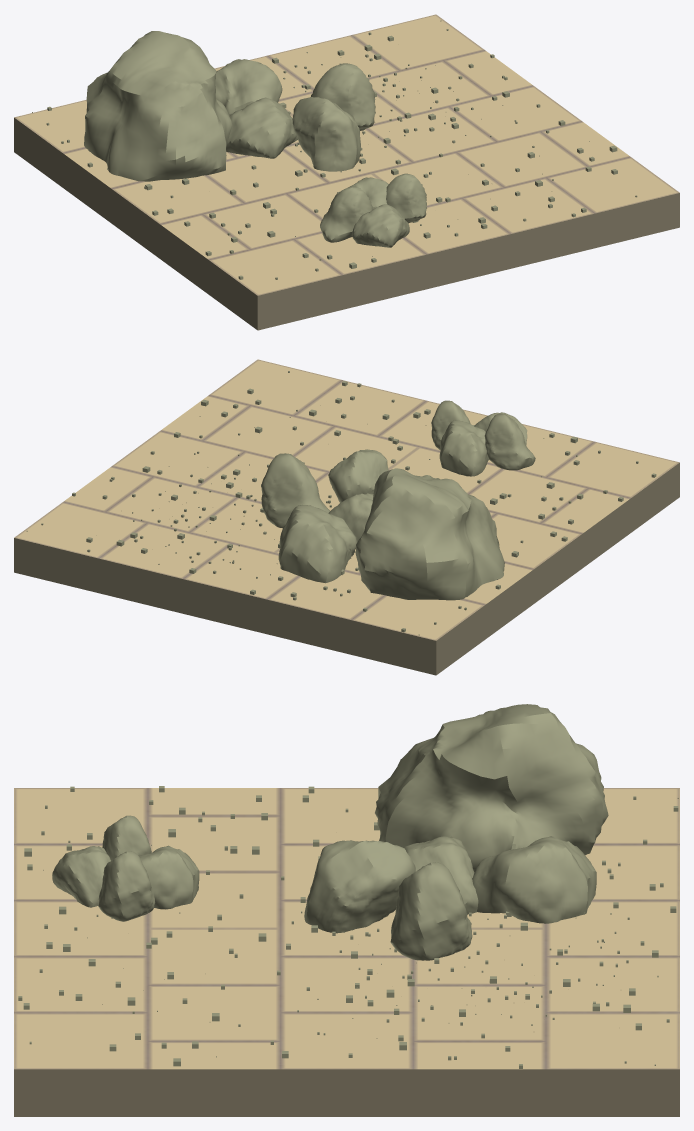
The model's file is tile0083.gltf.
3 views of the same model, one above another, from view 1: azimuth 30°, elevation 25°; view 2: azimuth 150°, elevation 25°; view 3: azimuth 270°, elevation 25° (orthographic). The views are drawn at different scales.
Parts seen in each view (by area): view 1: Cube.030, rock, rock.008, rock.001, rock.002, rock.003, rock.007, rock.004, Cube.101, rock.006, Cube.001, rock.005; view 2: Cube.030, rock, rock.002, rock.003, rock.005, rock.008, rock.007, Cube.101, Cube.001, rock.001, rock.006; view 3: Cube.030, rock, rock.002, rock.008, rock.003, rock.006, rock.005, Cube.101, rock.004, rock.001, Cube.001, rock.007 (+1 smaller).
Part boxes in pixels (x1,y1,x2,y2): Cube.030: (14,14,679,330); rock: (84,31,232,181); rock.008: (292,97,360,171); rock.001: (226,97,297,158); rock.002: (215,59,282,115); rock.003: (311,63,375,130); rock.007: (320,186,372,242); rock.004: (352,204,409,247); Cube.101: (46,20,637,268); rock.006: (386,173,426,223); Cube.001: (32,29,617,279); rock.005: (331,177,388,209); Cube.030: (14,359,679,675); rock: (355,468,504,600); rock.002: (278,504,356,583); rock.003: (261,453,329,528); rock.005: (439,420,488,476); rock.008: (328,449,388,502); rock.007: (484,413,535,470); Cube.101: (26,371,623,632); Cube.001: (41,381,656,635); rock.001: (328,493,373,542); rock.006: (431,400,470,450); Cube.030: (14,788,679,1116); rock: (375,704,608,872); rock.002: (472,836,596,923); rock.008: (304,840,415,933); rock.003: (390,862,472,960); rock.006: (98,851,155,921); rock.005: (138,845,199,909); Cube.101: (18,786,678,1065); rock.004: (52,846,110,907); rock.001: (403,836,478,914); Cube.001: (23,786,678,1068); rock.007: (102,815,151,860).
Size of the model in its own units: 4.95 by 1.63 by 4.95.
3 materials, 1 textured.
